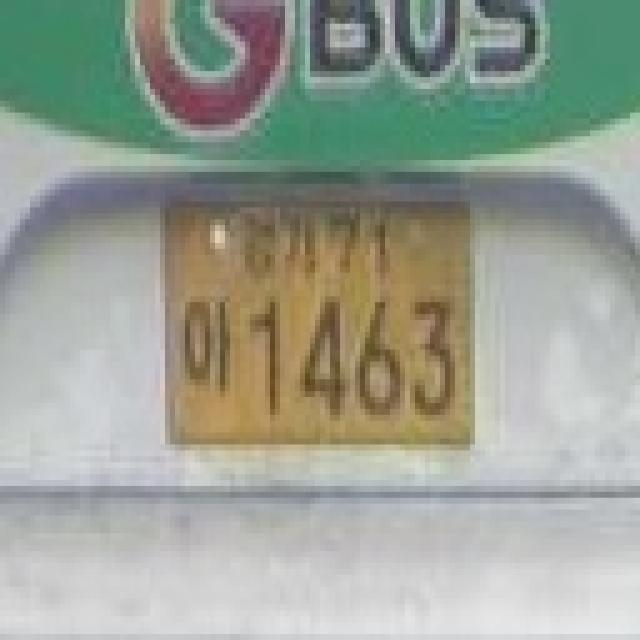plat: (163, 193, 475, 447)
